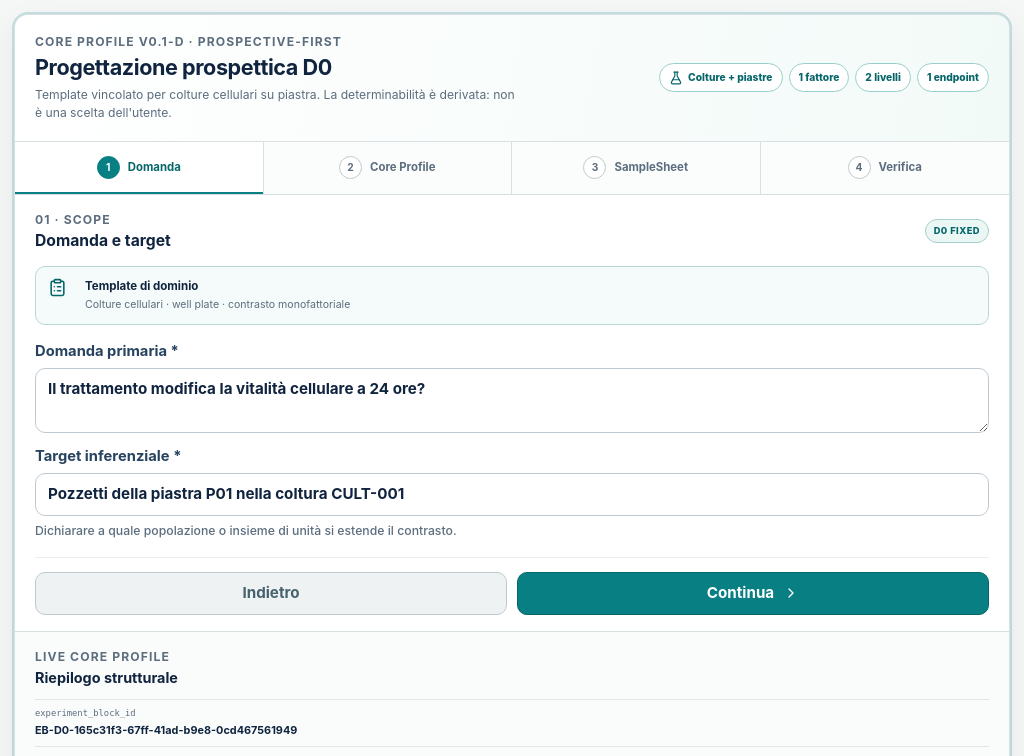
Test: Prospective D0 workspace › constrains the bootstrap to cell cultures, one factor, two levels and one endpoint
Expected: the heading "Progettazione prospettica D0" is shown, x1=35 y1=54 x2=332 y2=80
Expected: the text "Colture + piastre" is shown, x1=659 y1=63 x2=783 y2=92
Click the button "2 Core Profile".
click(388, 168)  # box x1=264 y1=142 x2=512 y2=194
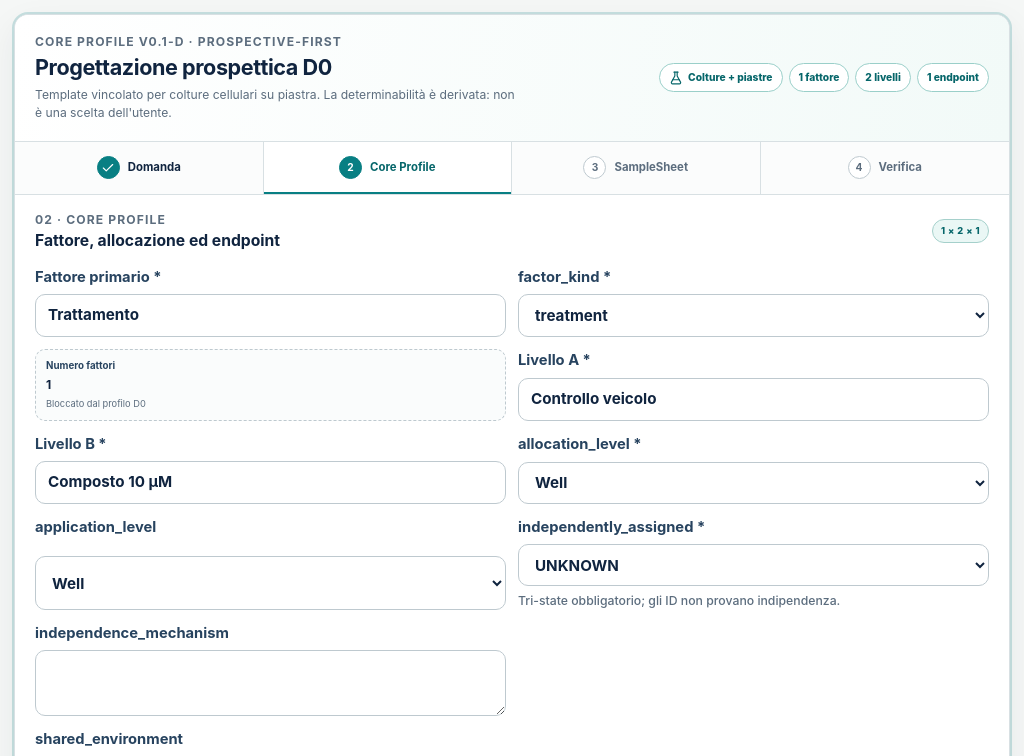
Now the text "Bloccato dal profilo D0" is shown, box x1=46 y1=398 x2=146 y2=409
Now the dropdown named "Indipendenza dell'assegnazione" shows "UNKNOWN", box x1=518 y1=544 x2=989 y2=586
